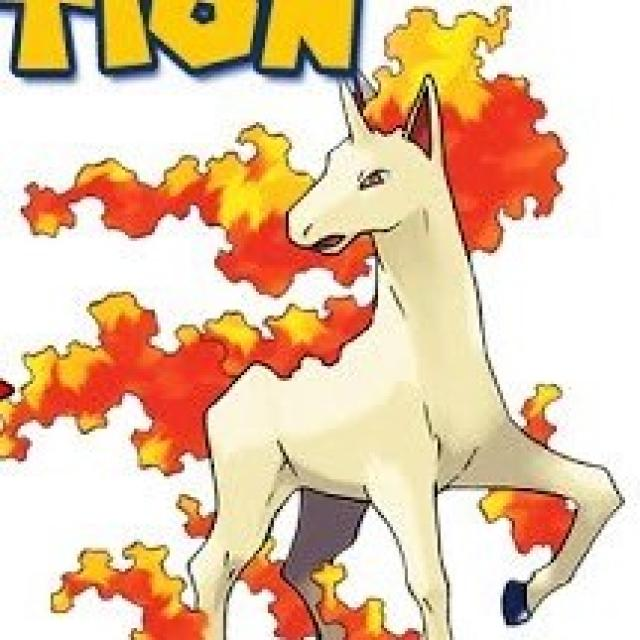Rapidash: (214, 80, 567, 640)
